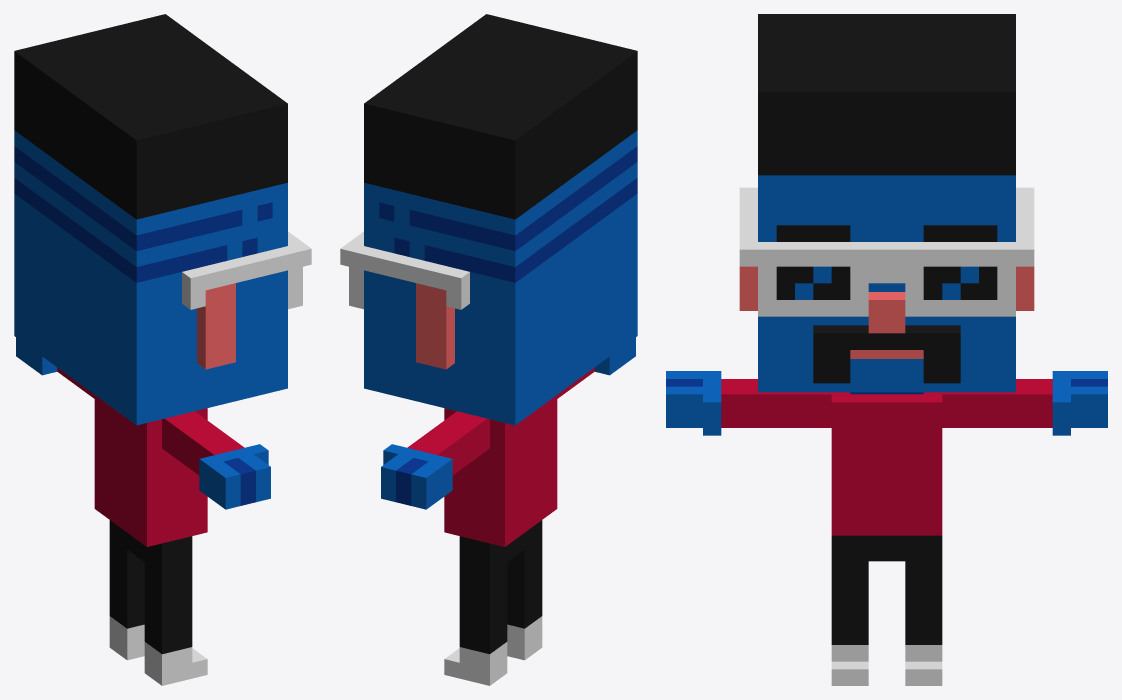
File: Voxel Universe-53.obj
3 renders of one model, left to right at view 1: azimuth 30°, elevation 25°; view 2: azimuth 150°, elevation 25°; view 3: azimuth 270°, elevation 25°, orthographic. The views are drawn at different scales.
Bounding box in the file's own units: 1.1 × 3.7 × 2.4.
Materials: 1 (1 with a texture image).
